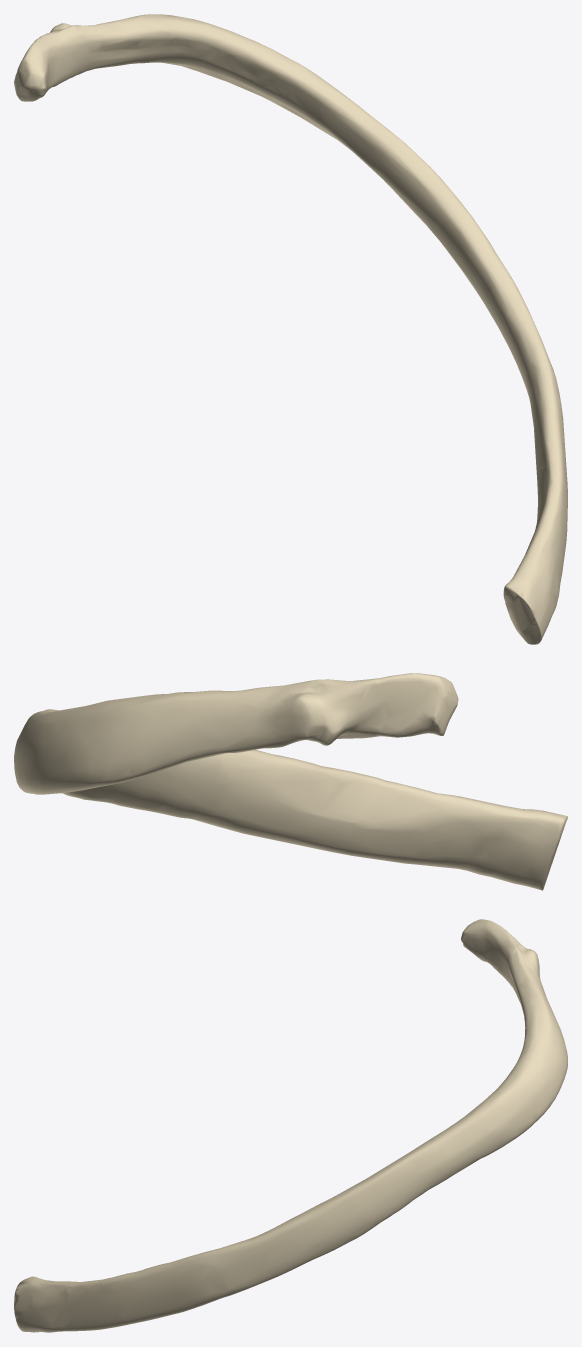
Rendered from esqueleto-fifth-rib-l.glb.
The picture shows the model from 3 angles, top to bottom: view 1: azimuth 30°, elevation 25°; view 2: azimuth 150°, elevation 25°; view 3: azimuth 270°, elevation 25°; orthographic projection. The views are drawn at different scales.
Parts seen in each view (by area): view 1: Fifth rib.l; view 2: Fifth rib.l; view 3: Fifth rib.l.
Boxes of the visible parts, x1,y1,x2,y2 form: Fifth rib.l: (14, 14, 567, 644); Fifth rib.l: (14, 673, 567, 890); Fifth rib.l: (14, 919, 567, 1332).
Size of the model in its own units: 0.1158 by 0.126 by 0.1893.
